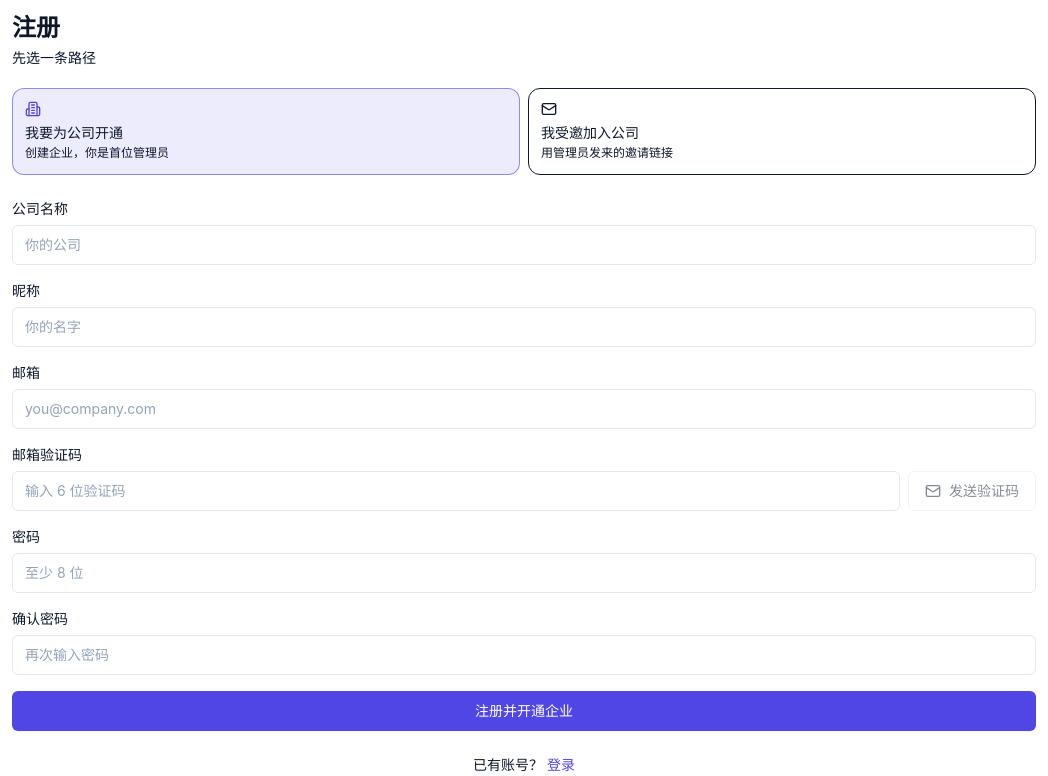
Test: RegisterPage › does not submit when password confirmation differs
In the field with placeholder "你的公司": point(524, 244) left=12, top=224, right=1036, bottom=264, type "新公司"
In the field with placeholder "你的名字": point(524, 326) left=12, top=306, right=1036, bottom=346, type "张三"
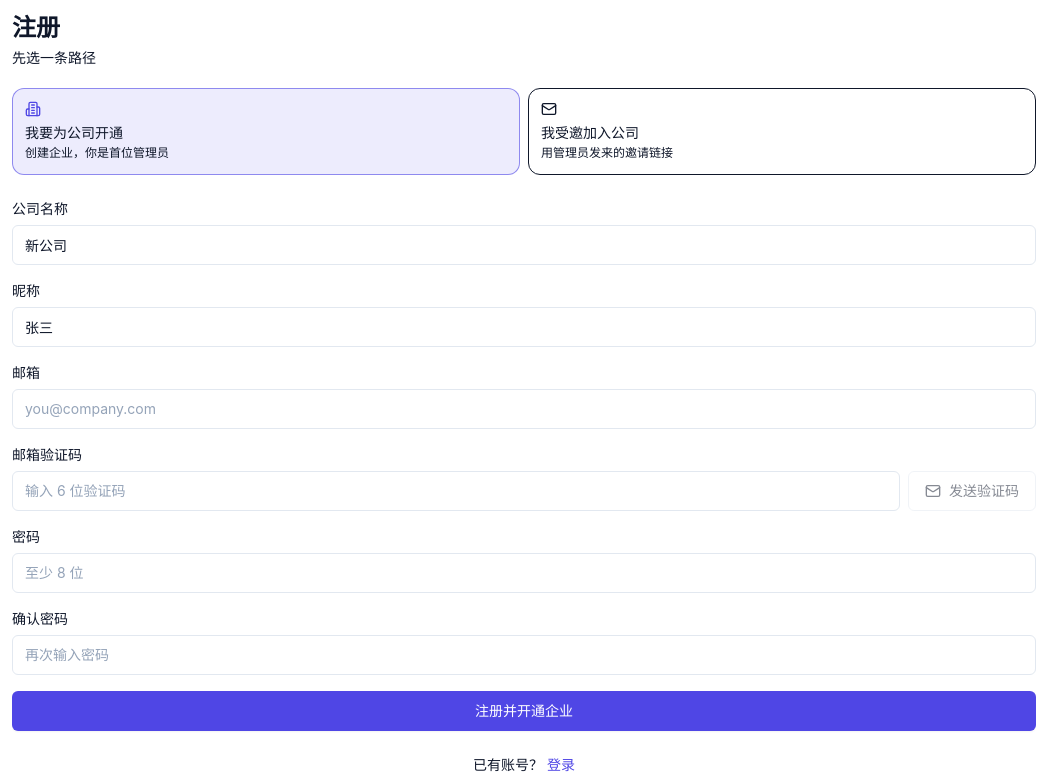
In the field with placeholder "you@company.com": point(524, 408) left=12, top=388, right=1036, bottom=428, type "new@example.com"
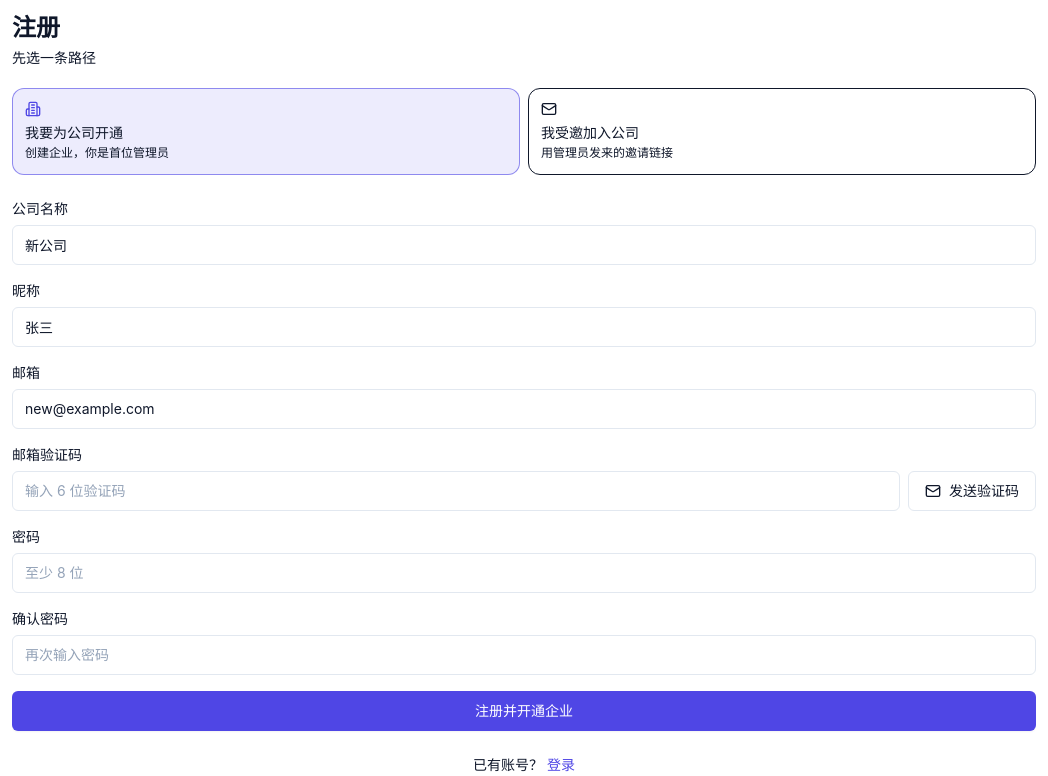
In the field with placeholder "输入 6 位验证码": point(456, 490) left=12, top=470, right=900, bottom=510, type "123456"
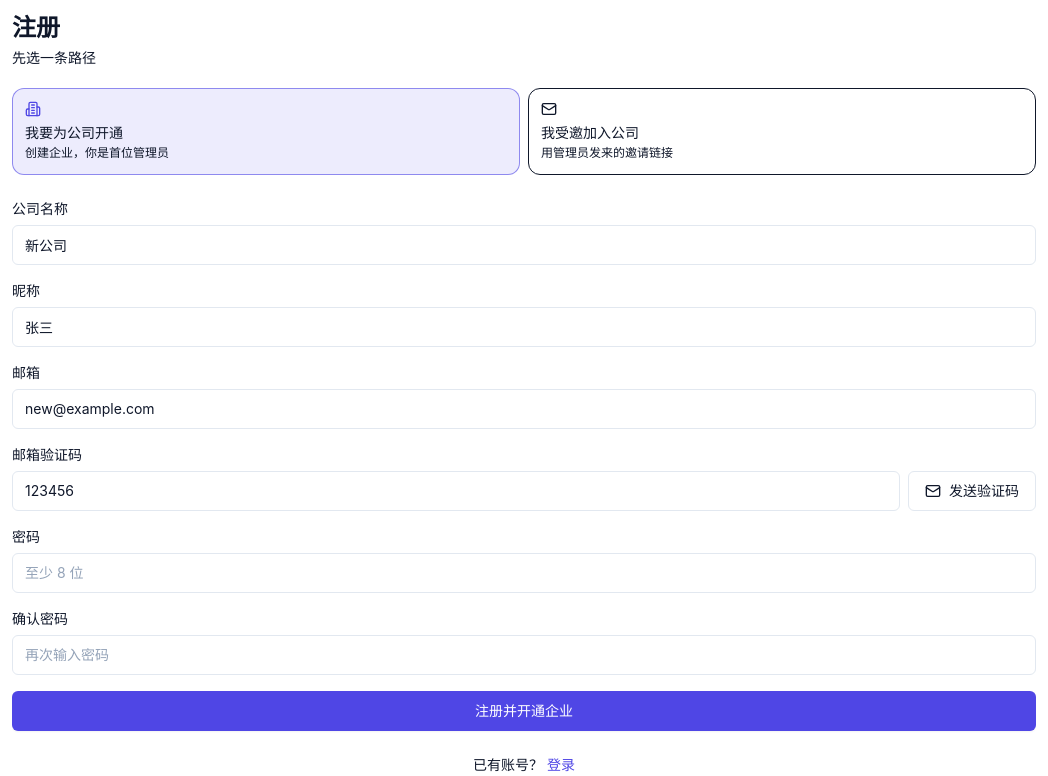
In the password field with placeholder "至少 8 位": point(524, 572) left=12, top=552, right=1036, bottom=592, type "password123"
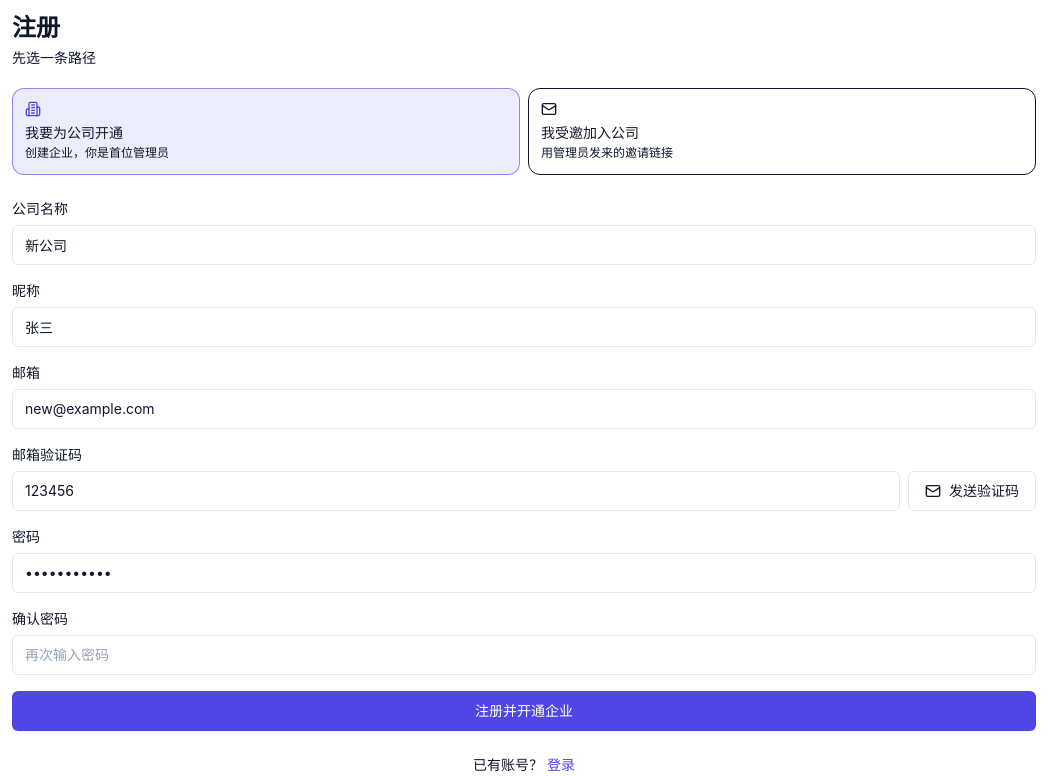
In the password field with placeholder "再次输入密码": point(524, 654) left=12, top=634, right=1036, bottom=674, type "different123"
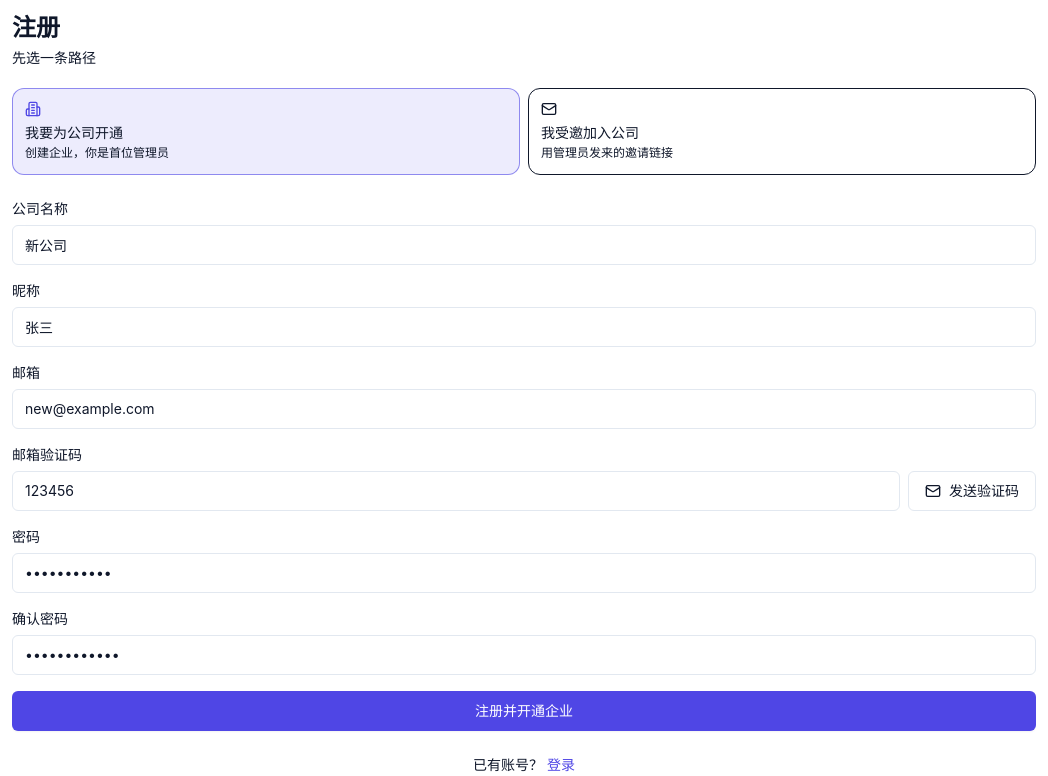
Click the button "注册并开通企业": point(524, 710) left=12, top=690, right=1036, bottom=730
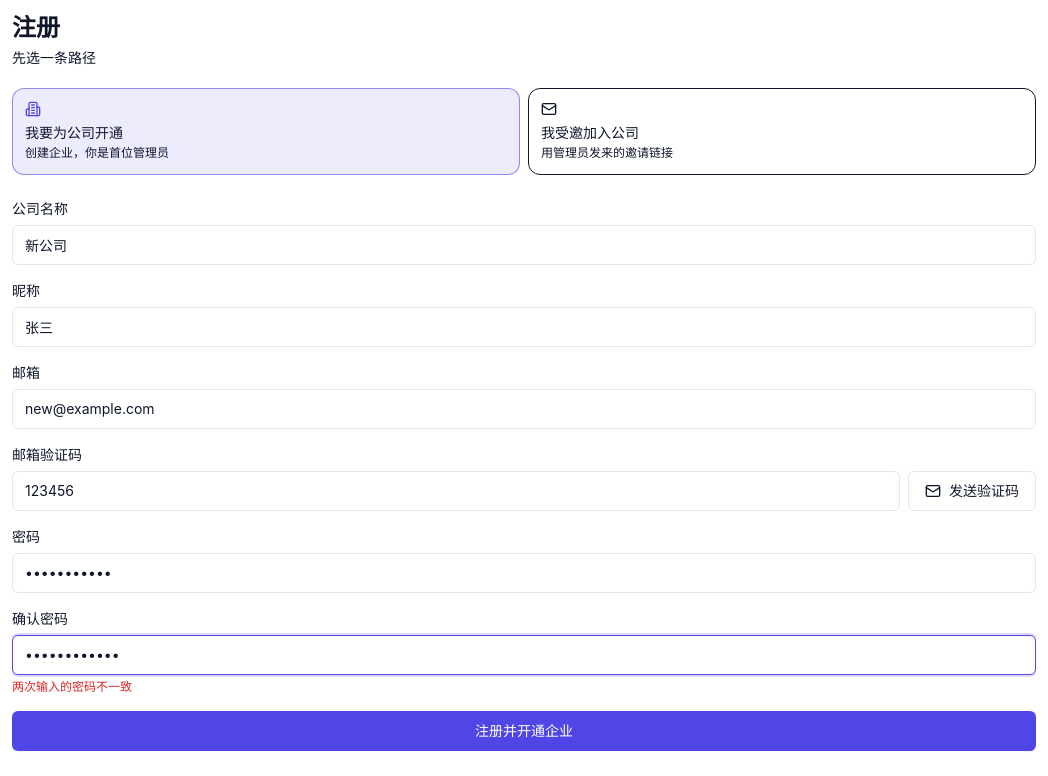
Now the text "两次输入的密码不一致" is shown, box left=12, top=678, right=132, bottom=694
